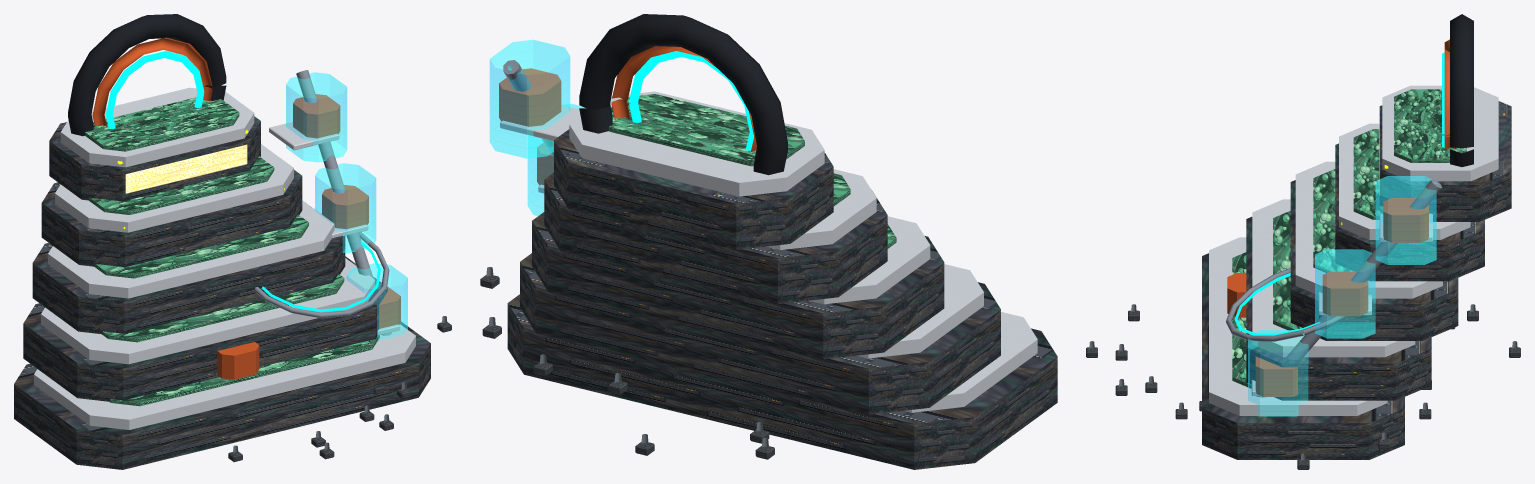
Rendered from interior_setpiece_04_r1_02.glb.
The picture shows the model from 3 angles, left to right: view 1: azimuth 30°, elevation 25°; view 2: azimuth 150°, elevation 25°; view 3: azimuth 270°, elevation 25°; orthographic projection. The views are drawn at different scales.
Visible parts, largest first — view 1: Setpiece04_C02_cliff_basalt, Setpiece04_C02_aero_white, Setpiece04_C02_biome_canopy, Setpiece04_C02_glass_cyan, Setpiece04_C02_accent_orange, Setpiece04_C02_gunmetal, Setpiece04_C02_steel_machined, Setpiece04_C02_window_warm_amber, Setpiece04_C02_led_cyan; view 2: Setpiece04_C02_cliff_basalt, Setpiece04_C02_aero_white, Setpiece04_C02_gunmetal, Setpiece04_C02_glass_cyan, Setpiece04_C02_biome_canopy, Setpiece04_C02_accent_orange, Setpiece04_C02_led_cyan, Setpiece04_C02_steel_machined; view 3: Setpiece04_C02_cliff_basalt, Setpiece04_C02_aero_white, Setpiece04_C02_glass_cyan, Setpiece04_C02_biome_canopy, Setpiece04_C02_accent_orange, Setpiece04_C02_steel_machined, Setpiece04_C02_gunmetal, Setpiece04_C02_led_cyan.
Boxes of the visible parts, x1=… form: Setpiece04_C02_cliff_basalt: x1=14, y1=116, x2=451, y2=469; Setpiece04_C02_aero_white: x1=34, y1=87, x2=415, y2=429; Setpiece04_C02_biome_canopy: x1=85, y1=97, x2=379, y2=406; Setpiece04_C02_glass_cyan: x1=286, y1=72, x2=407, y2=340; Setpiece04_C02_accent_orange: x1=92, y1=37, x2=400, y2=379; Setpiece04_C02_gunmetal: x1=68, y1=14, x2=226, y2=136; Setpiece04_C02_steel_machined: x1=233, y1=70, x2=447, y2=452; Setpiece04_C02_window_warm_amber: x1=125, y1=144, x2=247, y2=193; Setpiece04_C02_led_cyan: x1=106, y1=51, x2=380, y2=312; Setpiece04_C02_cliff_basalt: x1=480, y1=129, x2=1057, y2=469; Setpiece04_C02_aero_white: x1=500, y1=91, x2=1037, y2=412; Setpiece04_C02_gunmetal: x1=579, y1=14, x2=787, y2=175; Setpiece04_C02_glass_cyan: x1=489, y1=39, x2=585, y2=215; Setpiece04_C02_biome_canopy: x1=609, y1=94, x2=896, y2=248; Setpiece04_C02_accent_orange: x1=499, y1=46, x2=756, y2=185; Setpiece04_C02_led_cyan: x1=508, y1=51, x2=753, y2=150; Setpiece04_C02_steel_machined: x1=486, y1=60, x2=768, y2=447; Setpiece04_C02_cliff_basalt: x1=1086, y1=101, x2=1520, y2=469; Setpiece04_C02_aero_white: x1=1209, y1=85, x2=1498, y2=415; Setpiece04_C02_glass_cyan: x1=1248, y1=176, x2=1436, y2=416; Setpiece04_C02_biome_canopy: x1=1232, y1=89, x2=1466, y2=388; Setpiece04_C02_accent_orange: x1=1227, y1=39, x2=1456, y2=396; Setpiece04_C02_steel_machined: x1=1089, y1=179, x2=1517, y2=460; Setpiece04_C02_gunmetal: x1=1450, y1=14, x2=1473, y2=166; Setpiece04_C02_led_cyan: x1=1234, y1=52, x2=1444, y2=335.
Bounding box in the file's own units: 38.78 × 30.1 × 34.29.
Materials: 10 (10 with a texture image).
